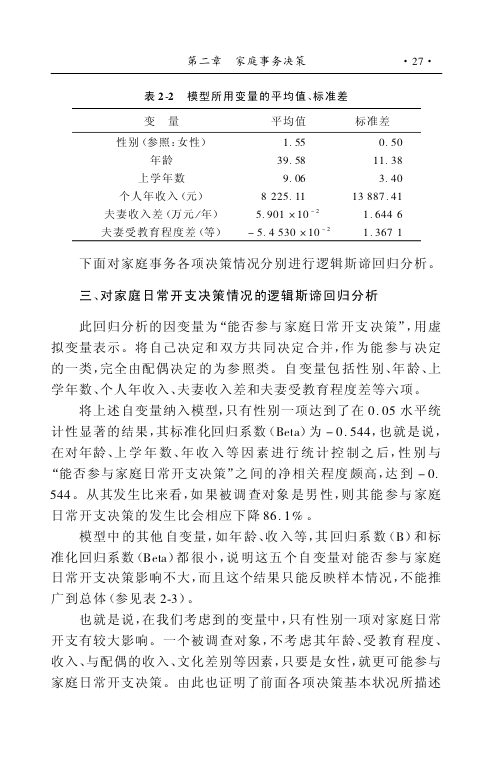table: (72, 106, 420, 241)
